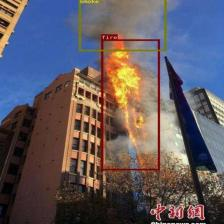fire: (101, 39, 159, 170)
smoke: (79, 0, 166, 51)
